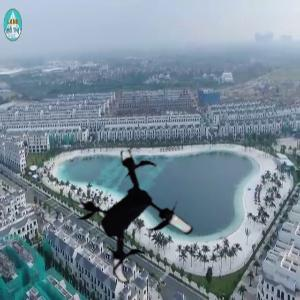drone: (70, 152, 207, 289)
